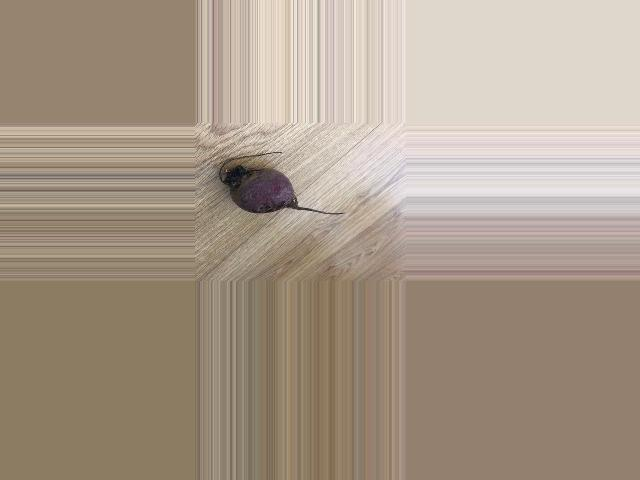beet: (219, 152, 345, 215)
